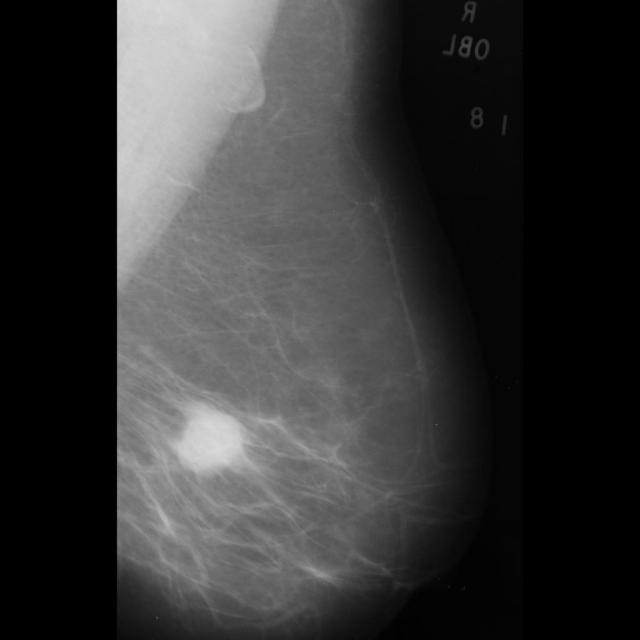tumour: (176, 407, 242, 474)
